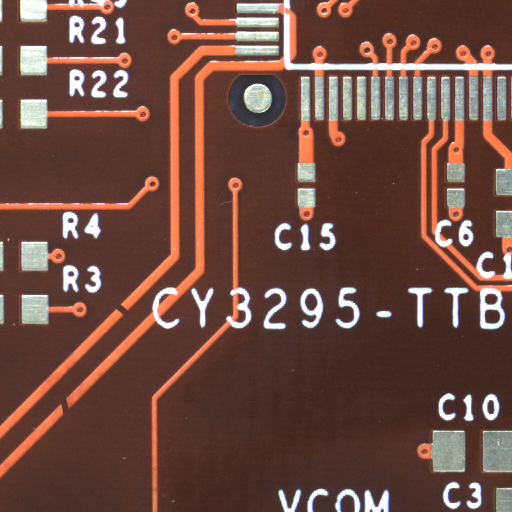Open_circuit: (122, 309, 141, 330), (65, 405, 75, 430)
